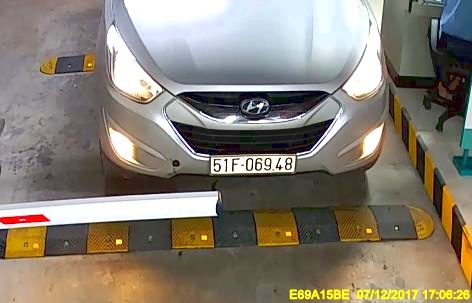plate: (205, 147, 303, 180)
